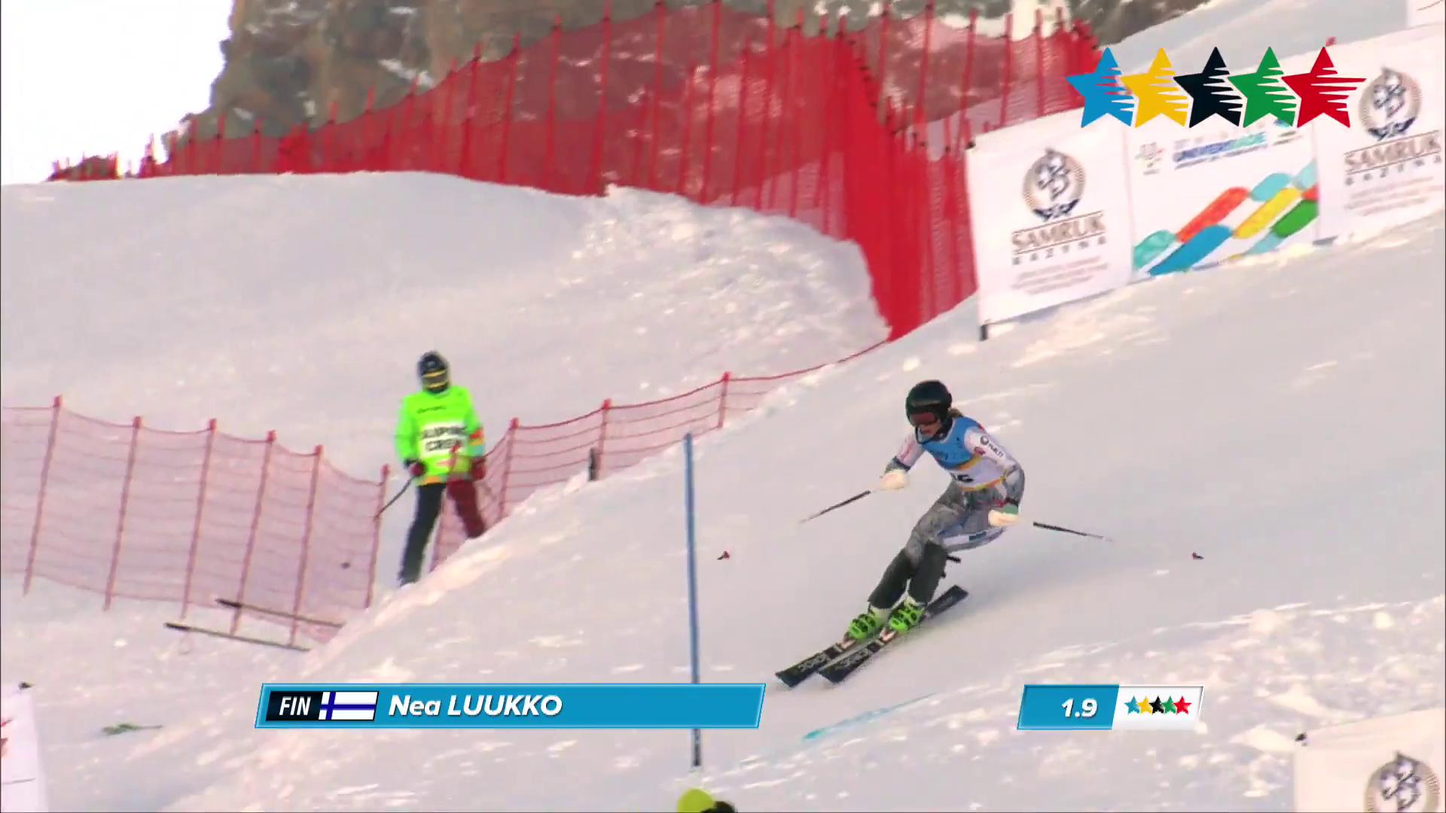gate: (684, 433, 700, 684), (691, 726, 703, 772)
